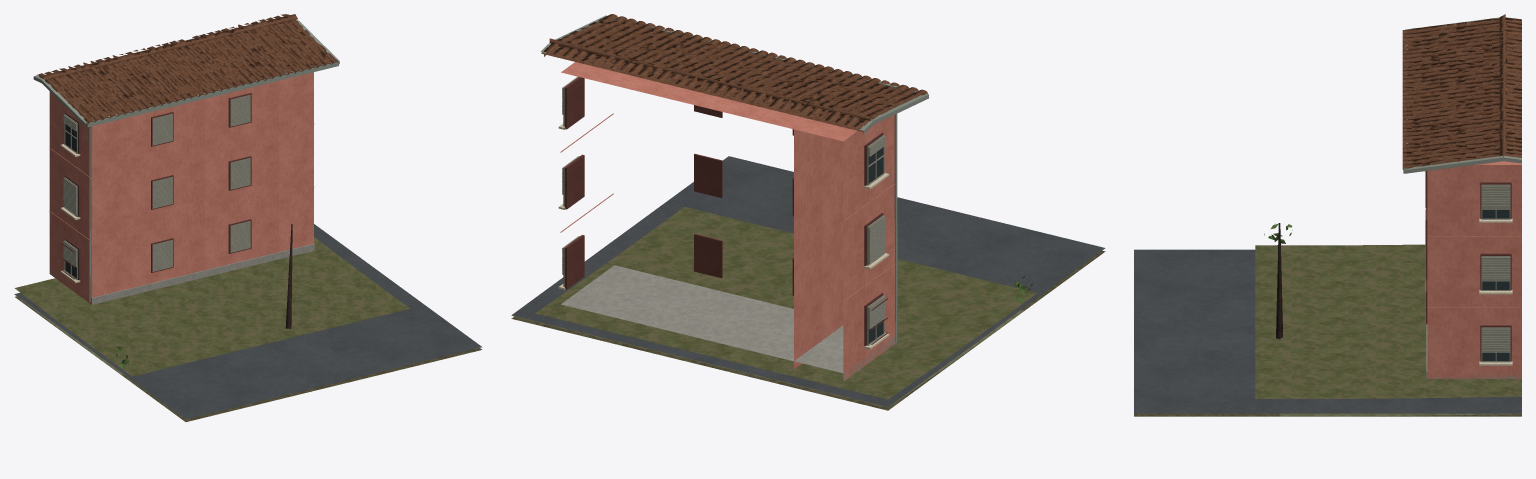
3 renders of one model, left to right at view 1: azimuth 30°, elevation 25°; view 2: azimuth 150°, elevation 25°; view 3: azimuth 270°, elevation 25°, orthographic. The views are drawn at different scales.
Size of the model in its own units: 16 by 13.62 by 16.
Materials: 15 (13 with a texture image).
